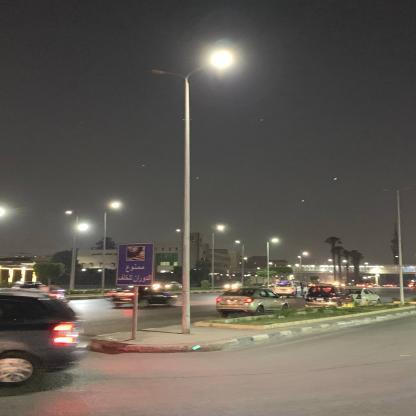light_pole: (151, 52, 232, 334), (381, 186, 412, 305), (101, 204, 121, 296), (64, 209, 80, 291), (211, 226, 224, 291), (267, 237, 279, 290), (236, 240, 245, 287), (300, 252, 308, 285)
